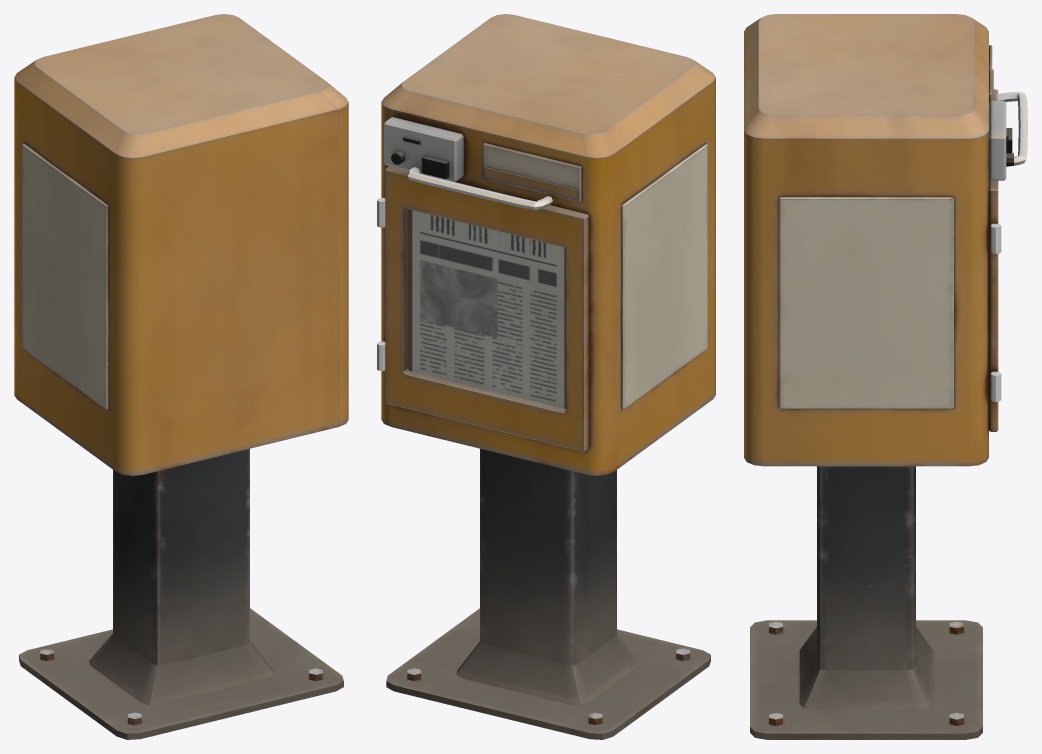
Rendered from newspaper_box_a.glb.
3 renders of one model, left to right at view 1: azimuth 30°, elevation 25°; view 2: azimuth 150°, elevation 25°; view 3: azimuth 270°, elevation 25°, orthographic. The views are drawn at different scales.
Visible parts, largest first — view 1: lod0; view 2: lod0; view 3: lod0.
Part boxes in pixels (x1,y1,x2,y2): lod0: (14, 14, 348, 739); lod0: (377, 14, 715, 739); lod0: (744, 14, 1027, 739).
Size of what is drawn, in the model's own units: 0.479 by 1.17 by 0.487.
2 materials, 1 textured.
